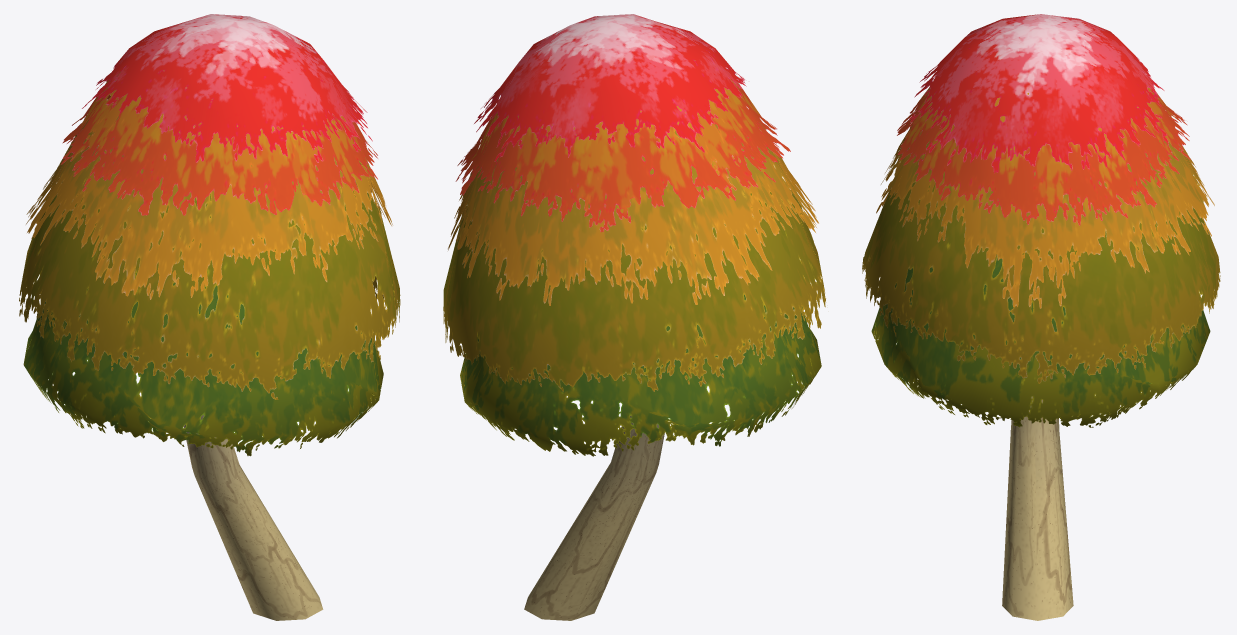
File: tree8.fbx
3 renders of one model, left to right at view 1: azimuth 30°, elevation 25°; view 2: azimuth 150°, elevation 25°; view 3: azimuth 270°, elevation 25°, orthographic. The views are drawn at different scales.
Visible parts, largest first — view 1: Circle.003, Cylinder.002; view 2: Circle.003, Cylinder.002; view 3: Circle.003, Cylinder.002.
Part boxes in pixels (x1,y1,x2,y2): Circle.003: [19, 14, 400, 456]; Cylinder.002: [183, 415, 323, 620]; Circle.003: [443, 14, 825, 456]; Cylinder.002: [524, 416, 664, 620]; Circle.003: [862, 14, 1220, 427]; Cylinder.002: [1002, 397, 1073, 620].
Bounding box in the file's own units: 971 × 1602 × 950.
